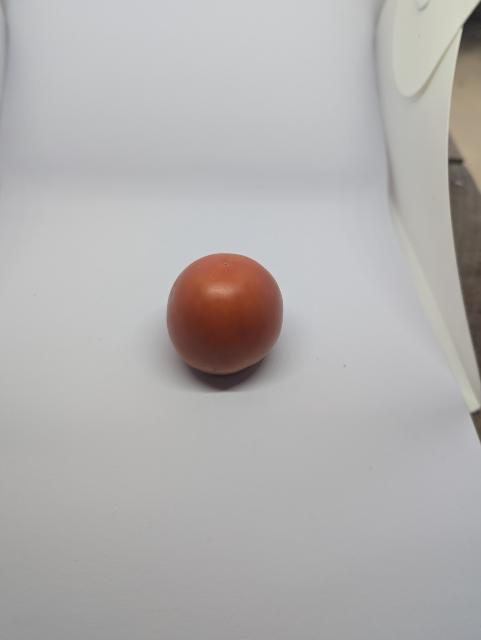red: (150, 246, 290, 403)
